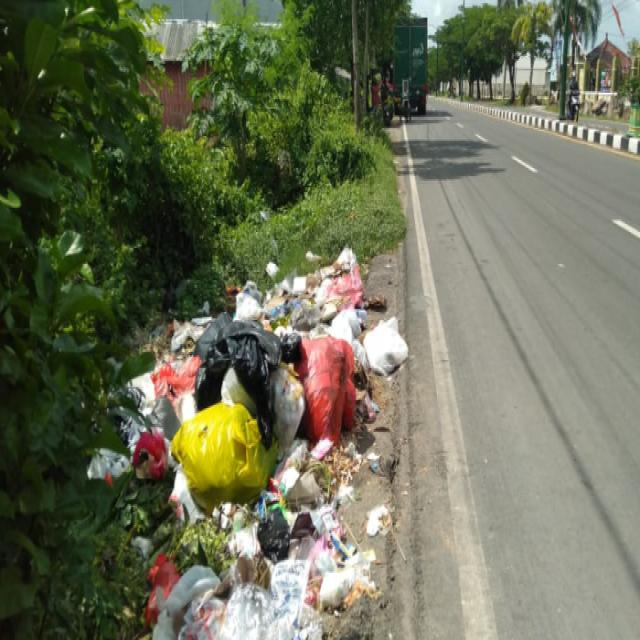trash: (64, 261, 458, 640)
